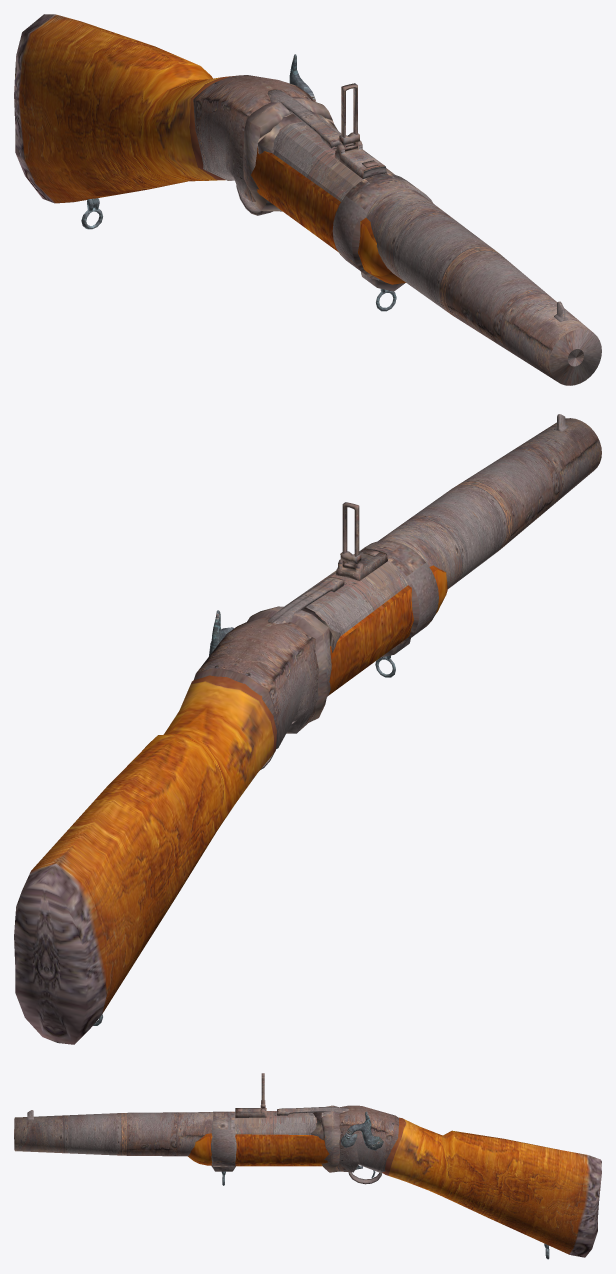
The model's file is SM_ChonkySmith_00.fbx.
The picture shows the model from 3 angles, top to bottom: view 1: azimuth 30°, elevation 25°; view 2: azimuth 150°, elevation 25°; view 3: azimuth 270°, elevation 25°; orthographic projection. The views are drawn at different scales.
Parts seen in each view (by area): view 1: Barrel.009, SM_ChonkySmith_00; view 2: SM_ChonkySmith_00, Barrel.009; view 3: SM_ChonkySmith_00, Barrel.009, Flint.009.
Part boxes in pixels (x1,y1,x2,y2): Barrel.009: (243,83,601,385); SM_ChonkySmith_00: (14,14,315,229); SM_ChonkySmith_00: (14,617,318,1044); Barrel.009: (247,414,601,722); SM_ChonkySmith_00: (334,1105,601,1259); Barrel.009: (14,1073,349,1185); Flint.009: (345,1111,383,1150).
Bounding box in the file's own units: 15.33 × 54.25 × 157.
